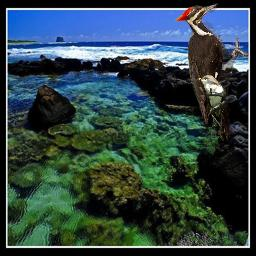Cuckoo: (196, 75, 226, 138)
Woodpecker: (175, 3, 249, 142)
